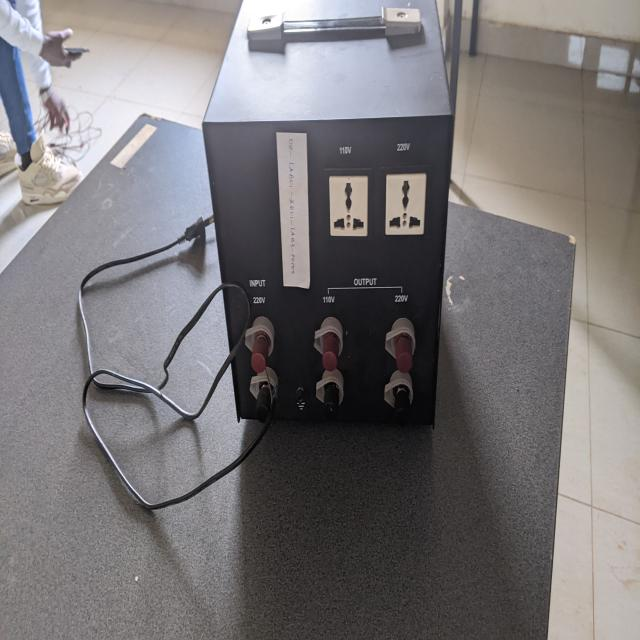AC POWER Stabilizer: (199, 2, 458, 437)
